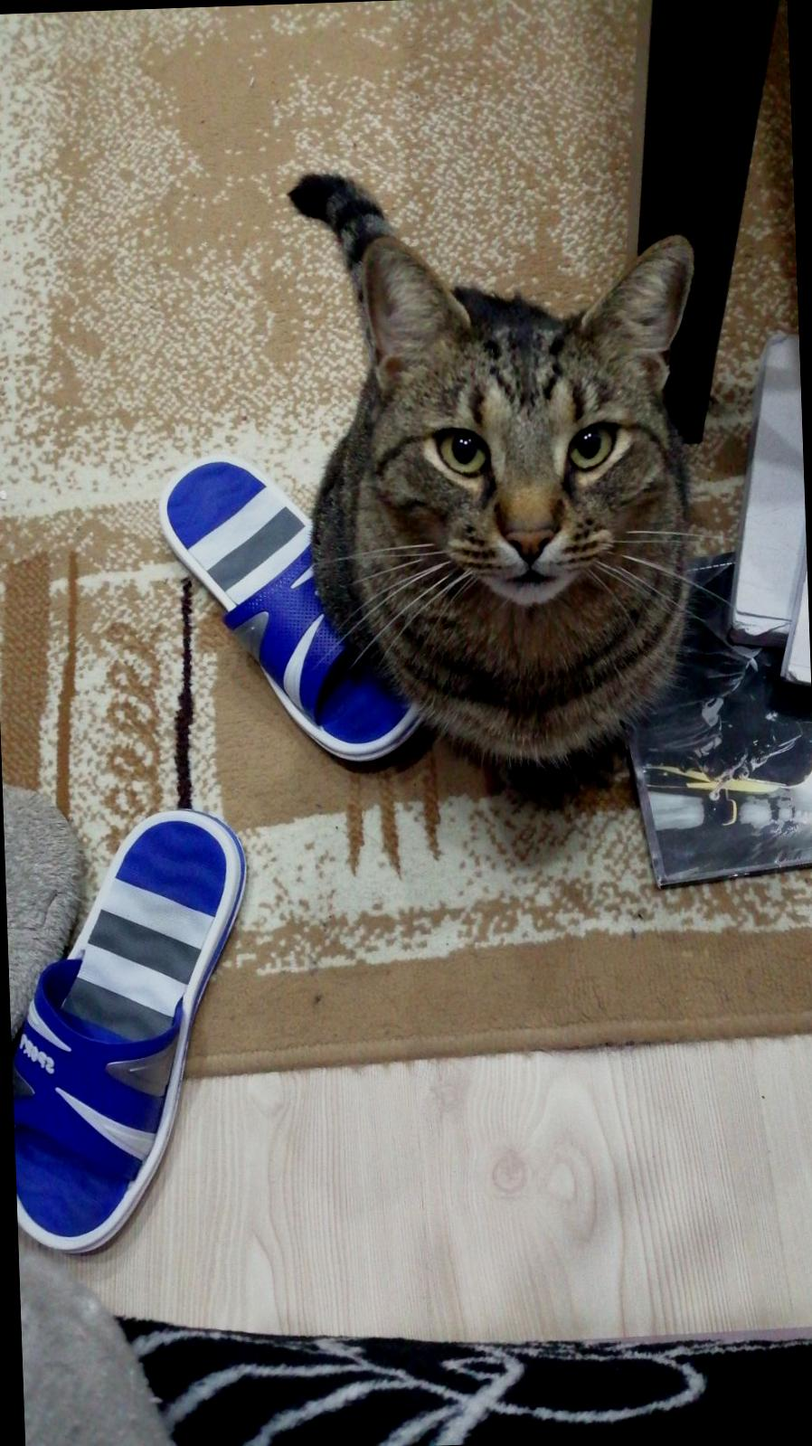macka: (290, 165, 713, 767)
